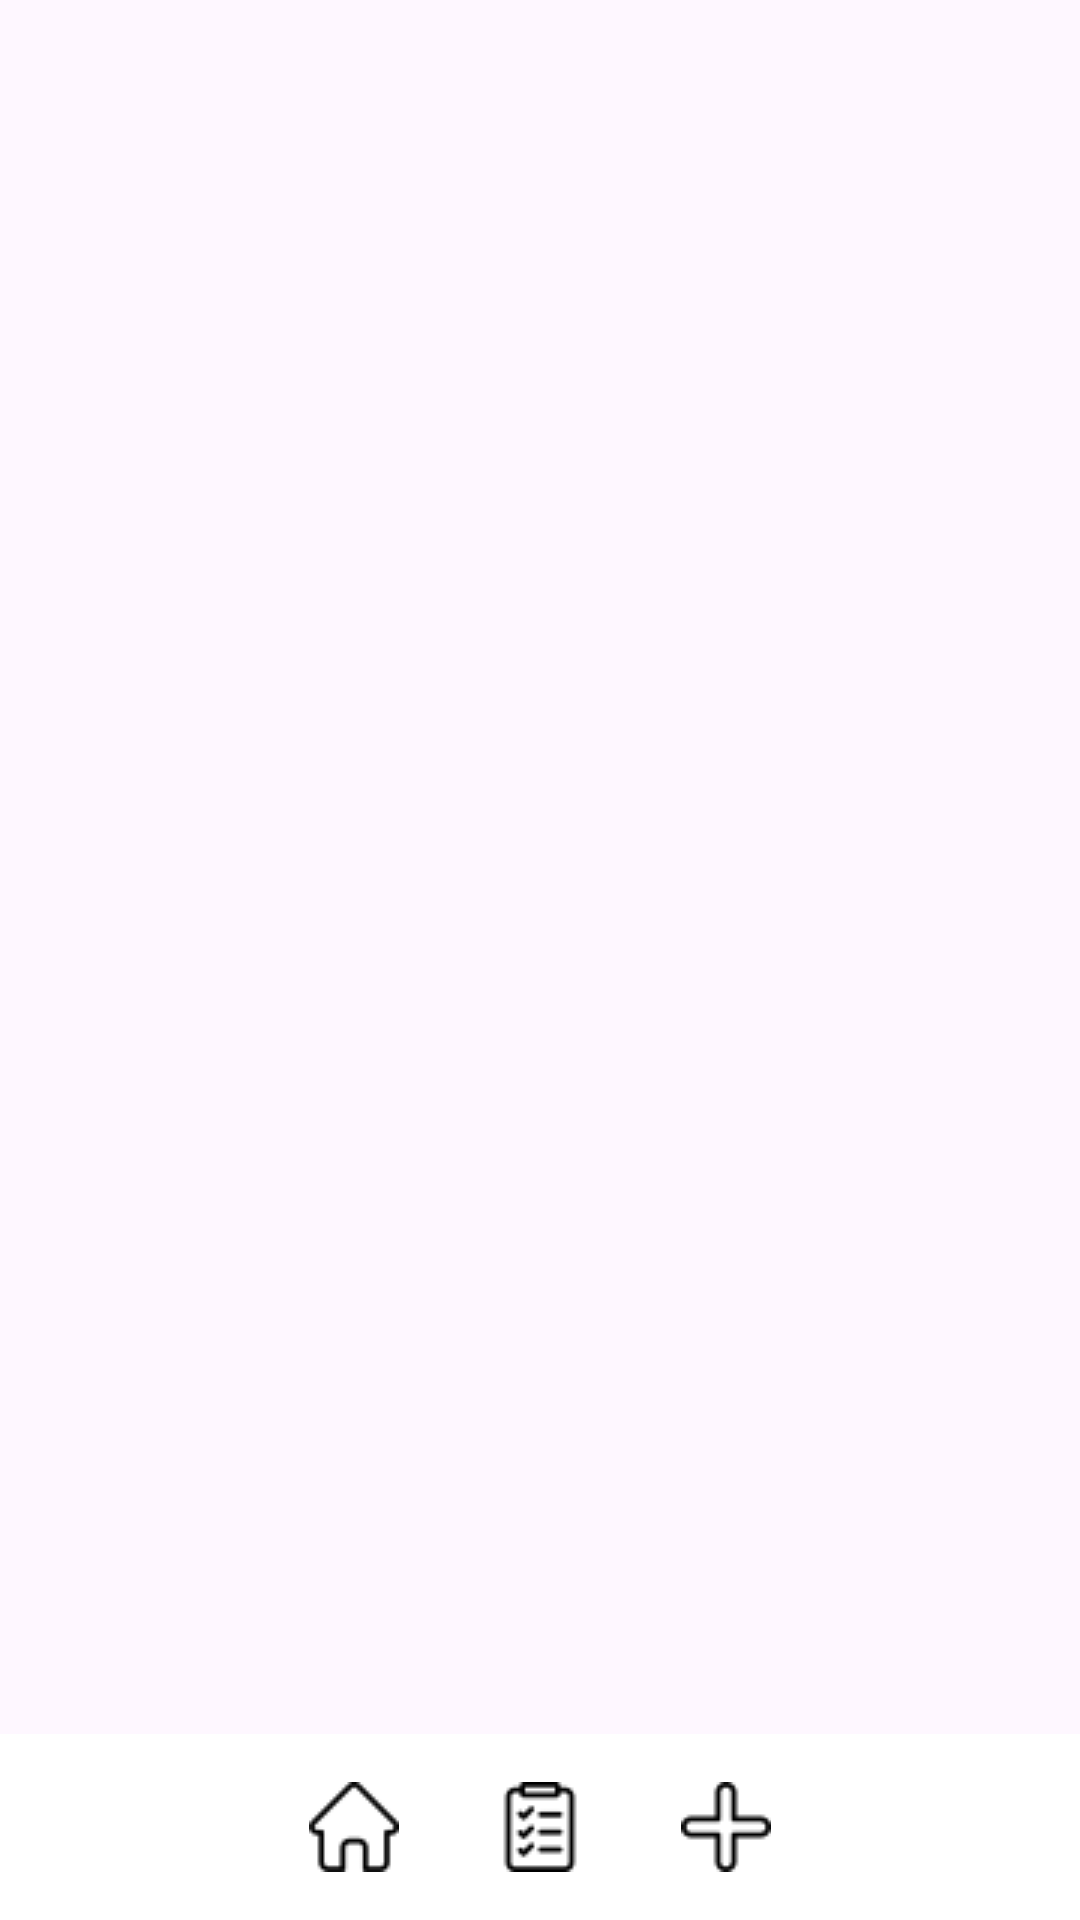

Screen size 1080×1920. Icon name, then its center in pixels as point (x, y):
Add Vehicle: point (726, 1827)
Home: point (354, 1827)
Vehicle List: point (540, 1827)
